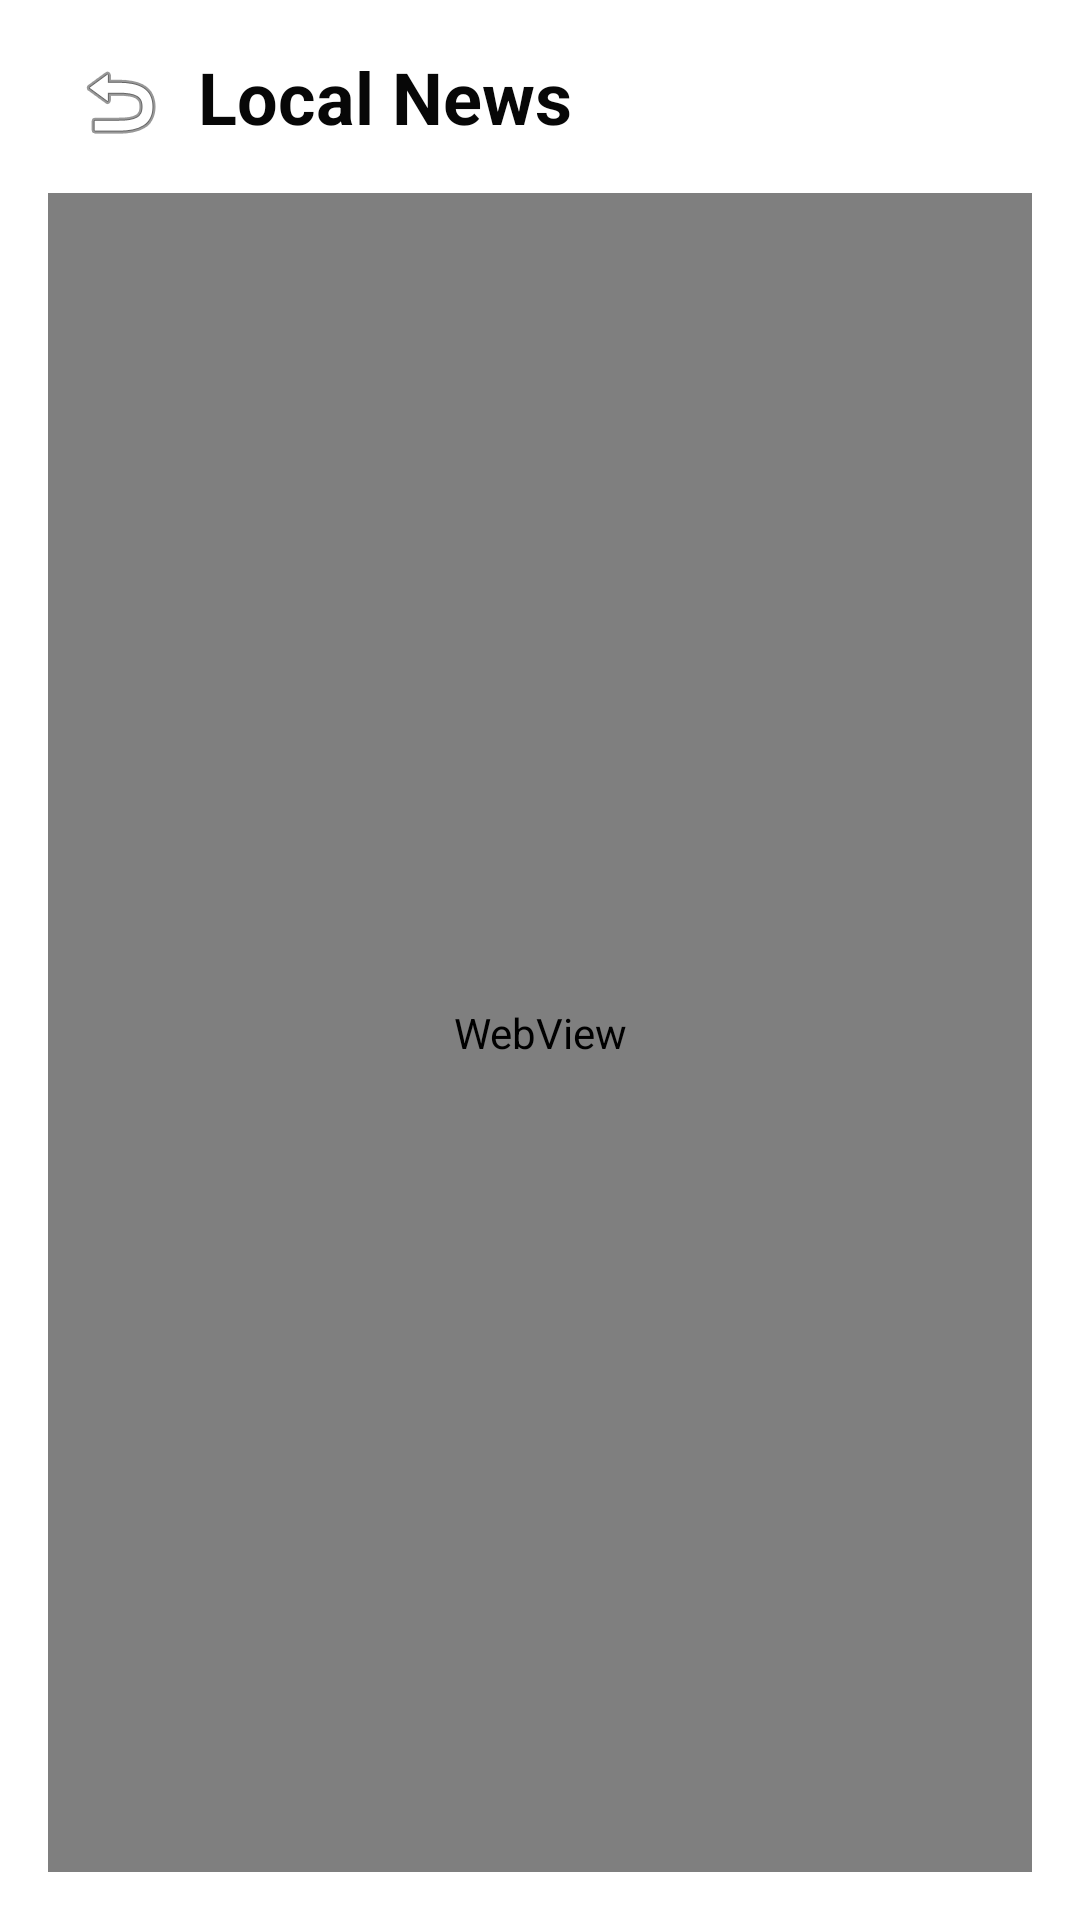

Named icons in this screenshot (1080×1920) and their bounding boxes, (x1, y1, x2, y2):
Back: (87, 71, 156, 134)
